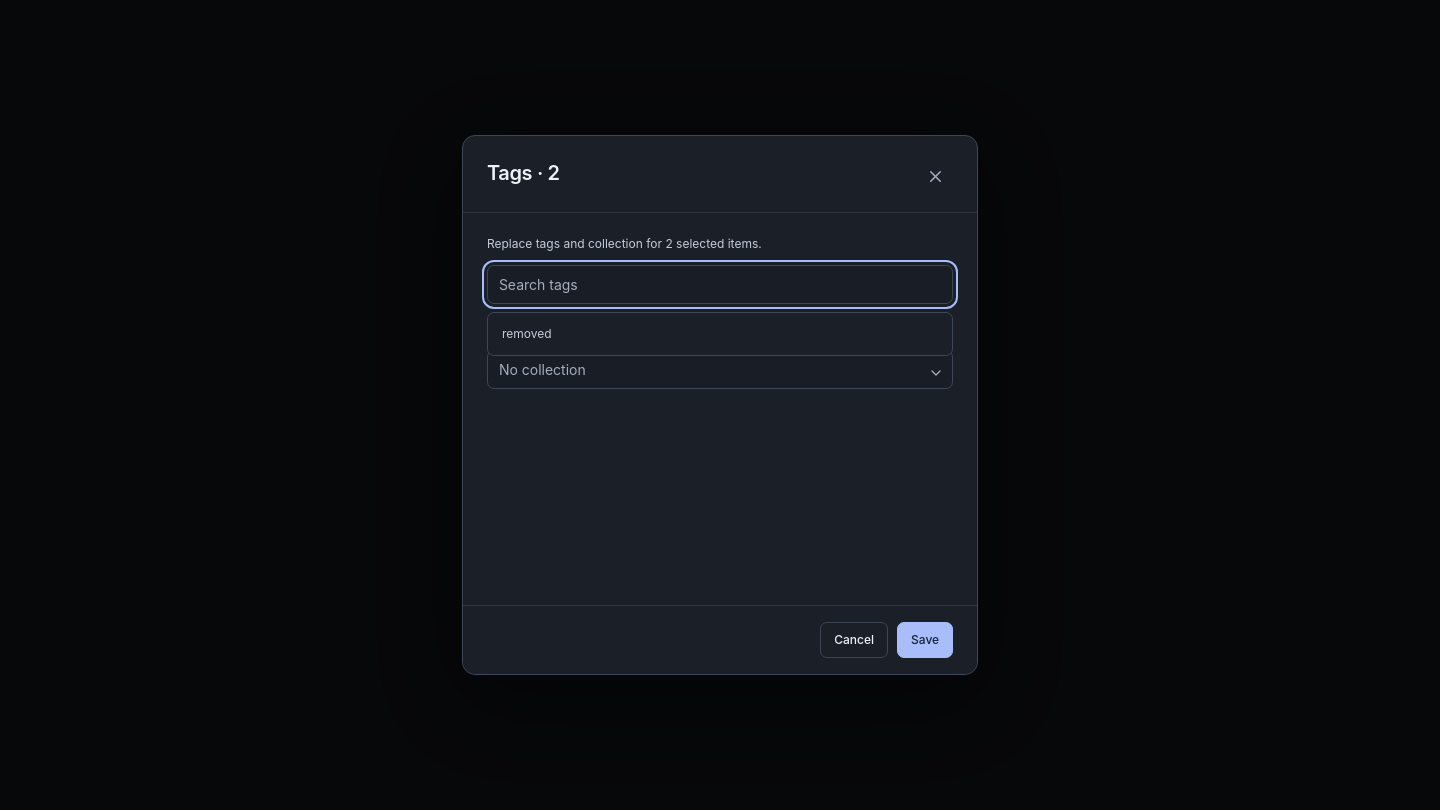
Test: gives corrected bulk metadata a new key after a definitive validation rejection
Later steps or results of the test are not shown.
Click the dropdown named "Add tags" at (720, 284), box x1=487 y1=265 x2=953 y2=304
Click the option "removed" at (527, 334), box x1=502 y1=326 x2=552 y2=341
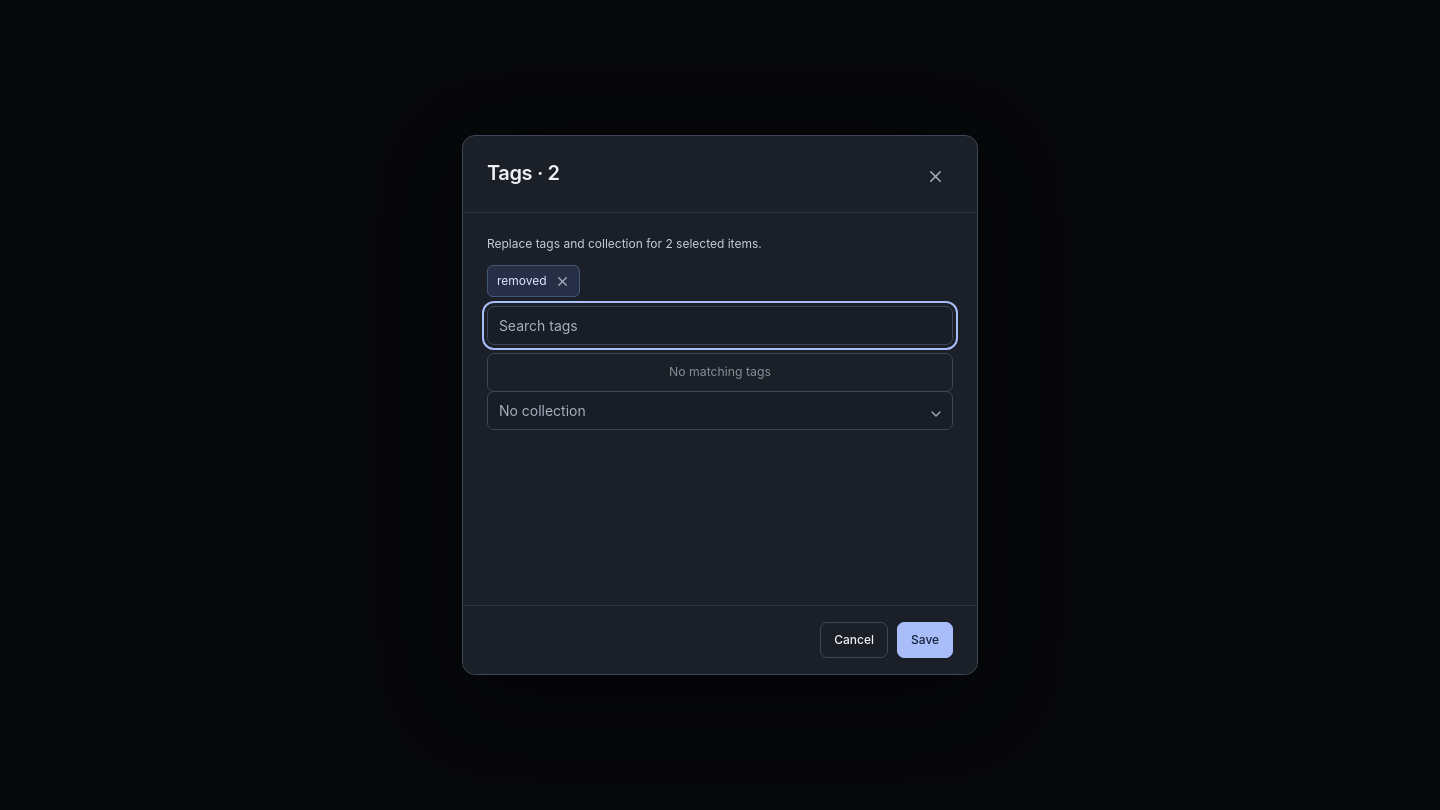
Click the button "Save" at (925, 640), box x1=897 y1=622 x2=953 y2=658
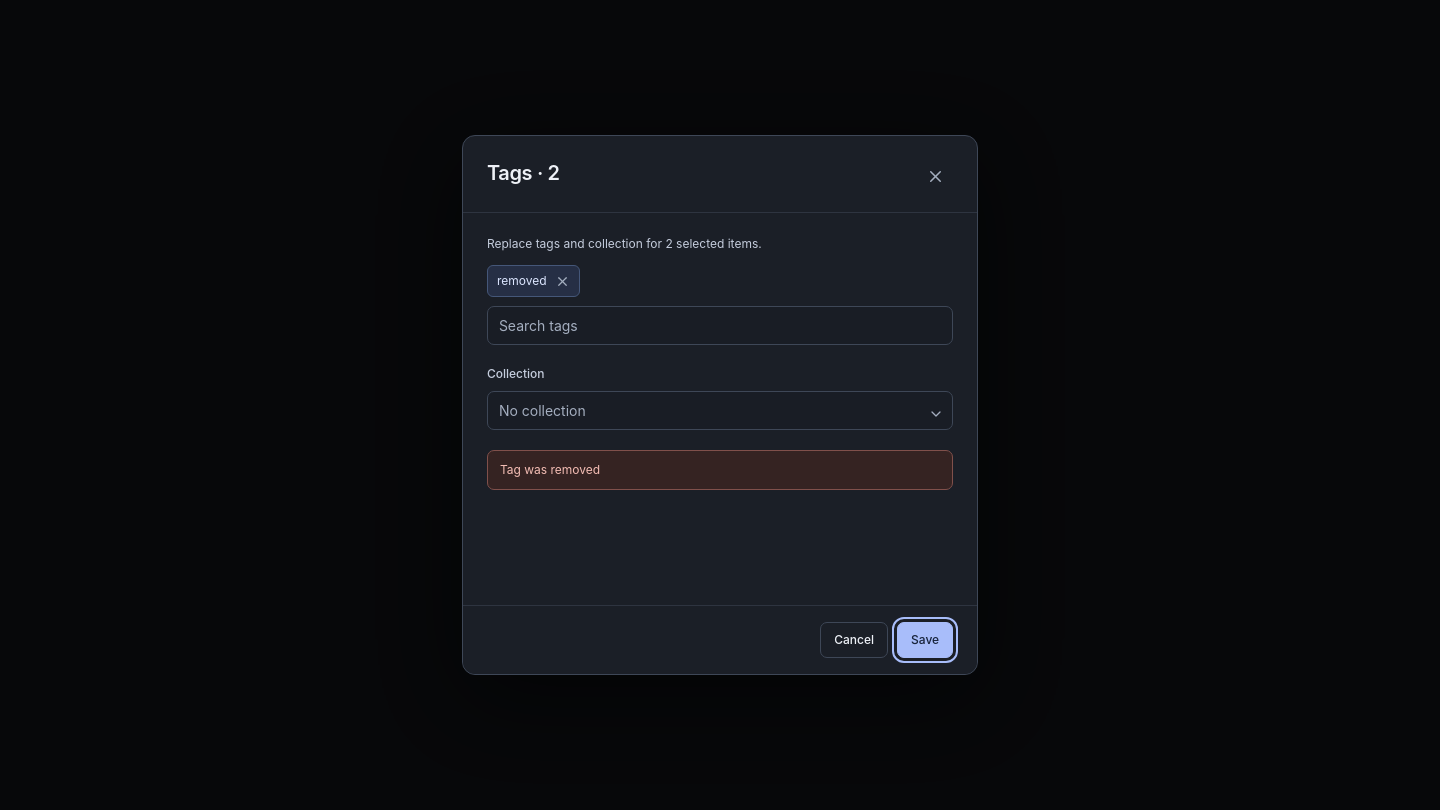
Check: the message reads "Tag was removed", box x1=500 y1=462 x2=600 y2=477
